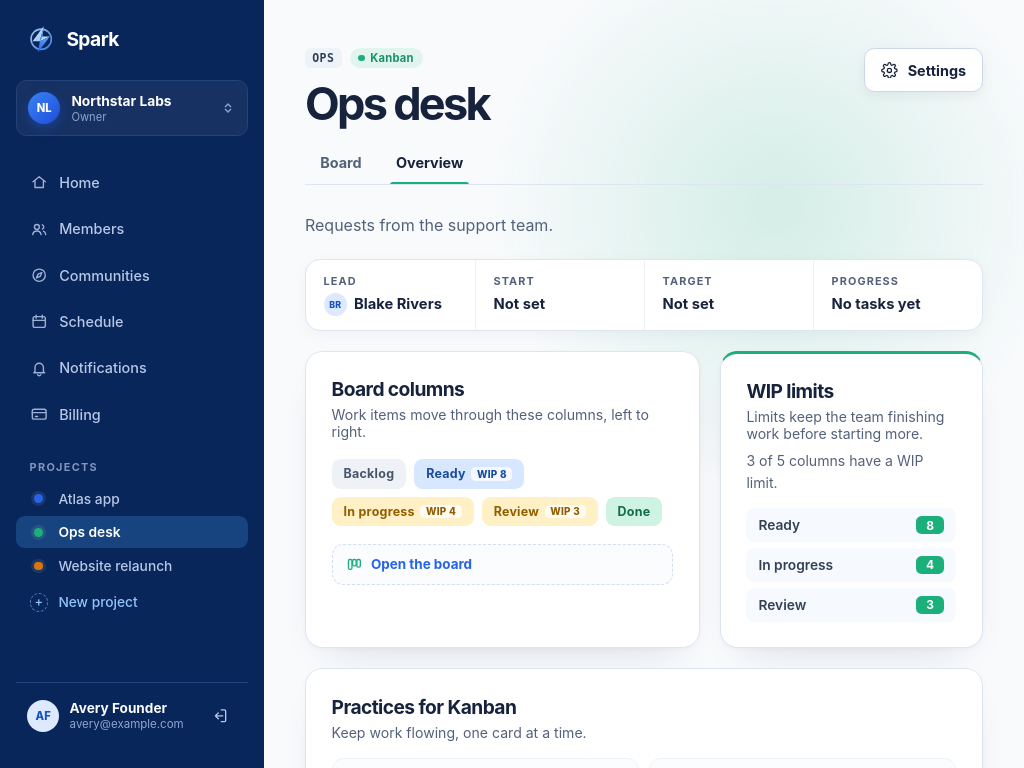
Scenario: project overview › shows a teammate's newer values on 412 and saves again with the fresh version
The width and height of the screenshot is (1024, 768).
Click the button "Settings": (924, 70) x1=864 y1=48 x2=983 y2=92
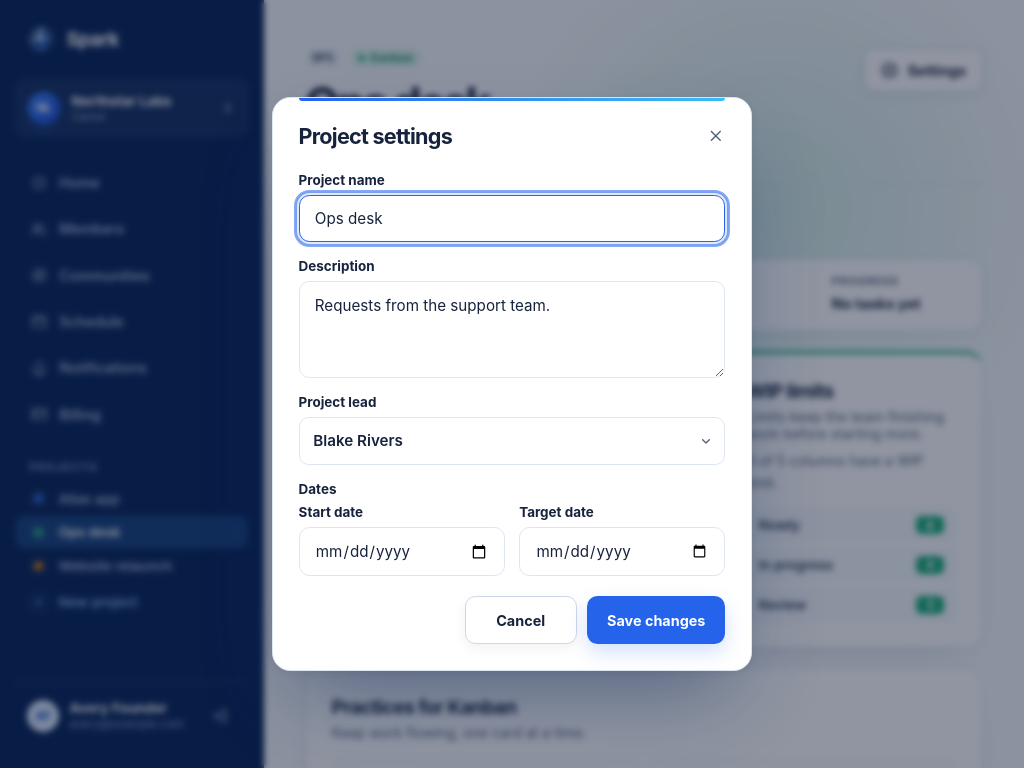
Replace the text in the field labelled "Project name" with "Ops desk 2": (512, 218) x1=299 y1=195 x2=725 y2=242
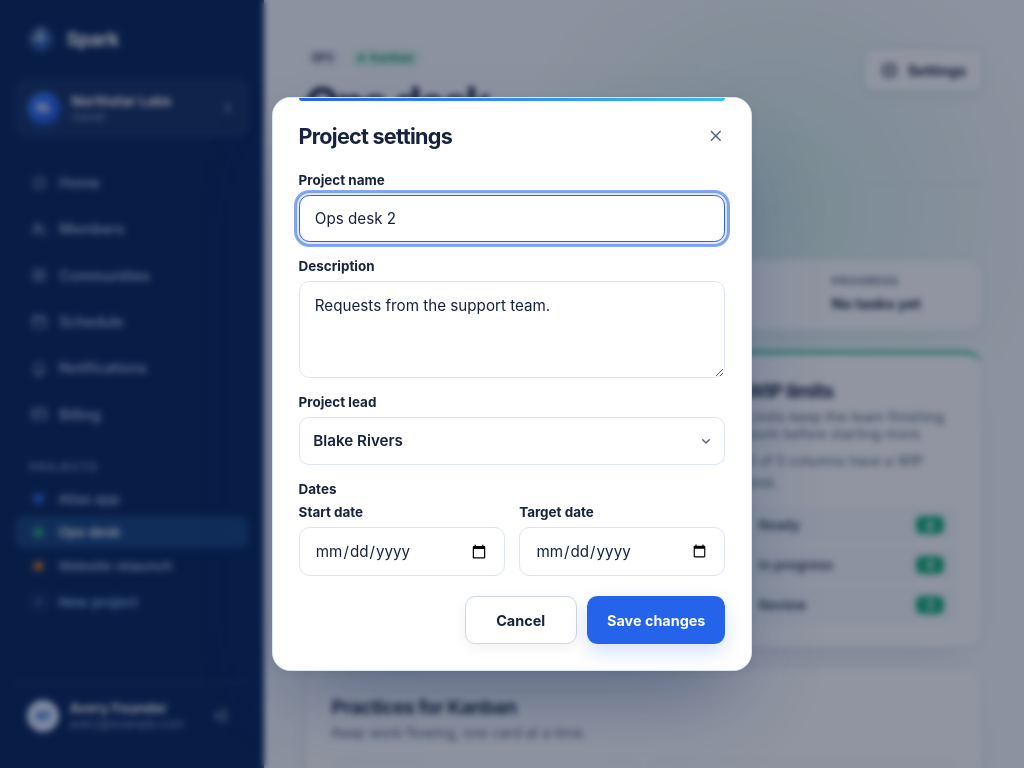
Click the button "Save changes": (656, 620) x1=587 y1=596 x2=725 y2=644
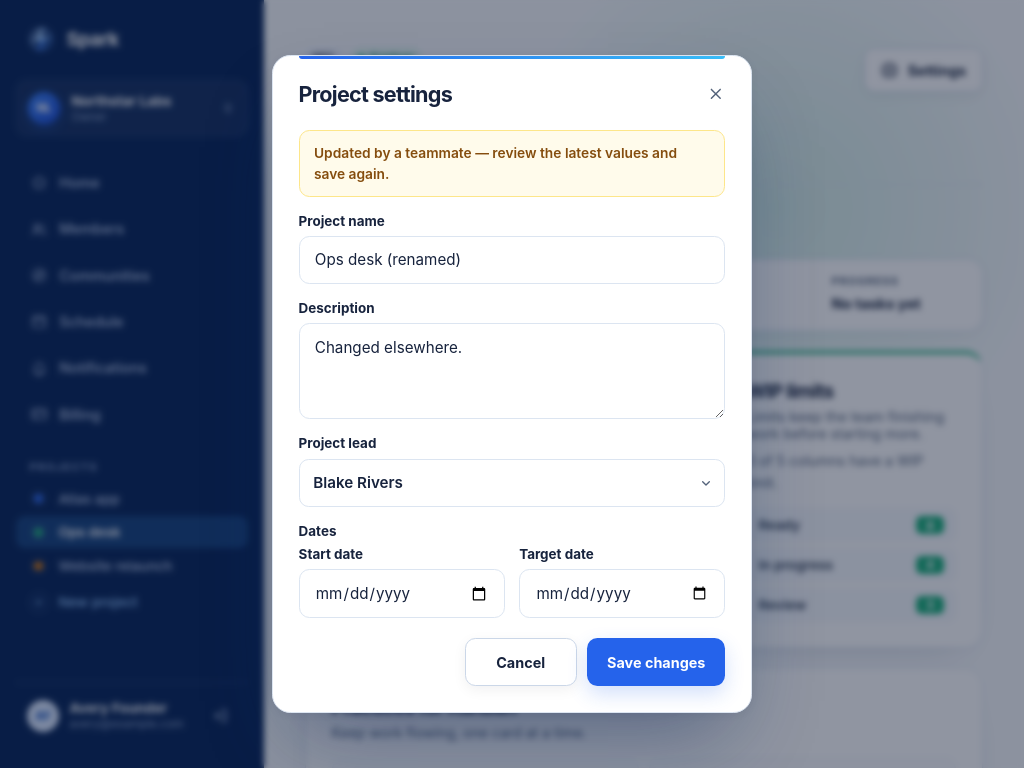
Now the dialog "Project settings" is shown, box x1=272 y1=55 x2=752 y2=713
Now the text "Updated by a teammate — review the latest values and save again." is shown, box x1=299 y1=130 x2=725 y2=197
Now the field labelled "Project name" holds "Ops desk (renamed)"
Replace the text in the field labelled "Project name" with "Ops desk 2": (512, 260) x1=299 y1=236 x2=725 y2=284
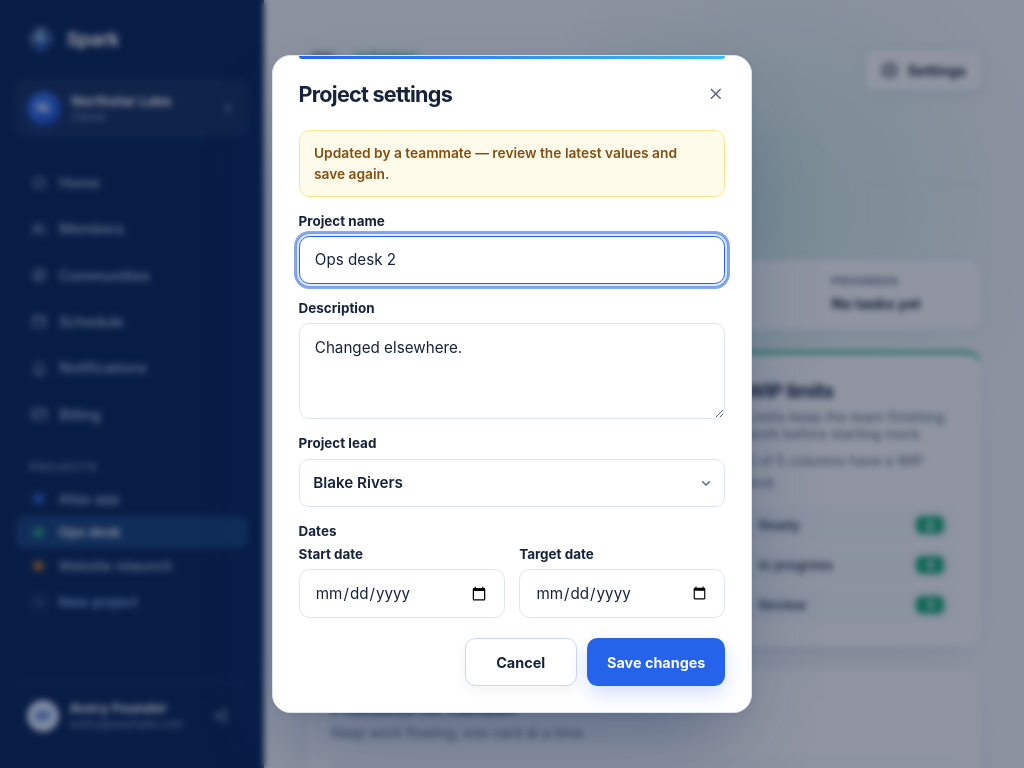
Click the button "Save changes": (656, 662) x1=587 y1=638 x2=725 y2=686
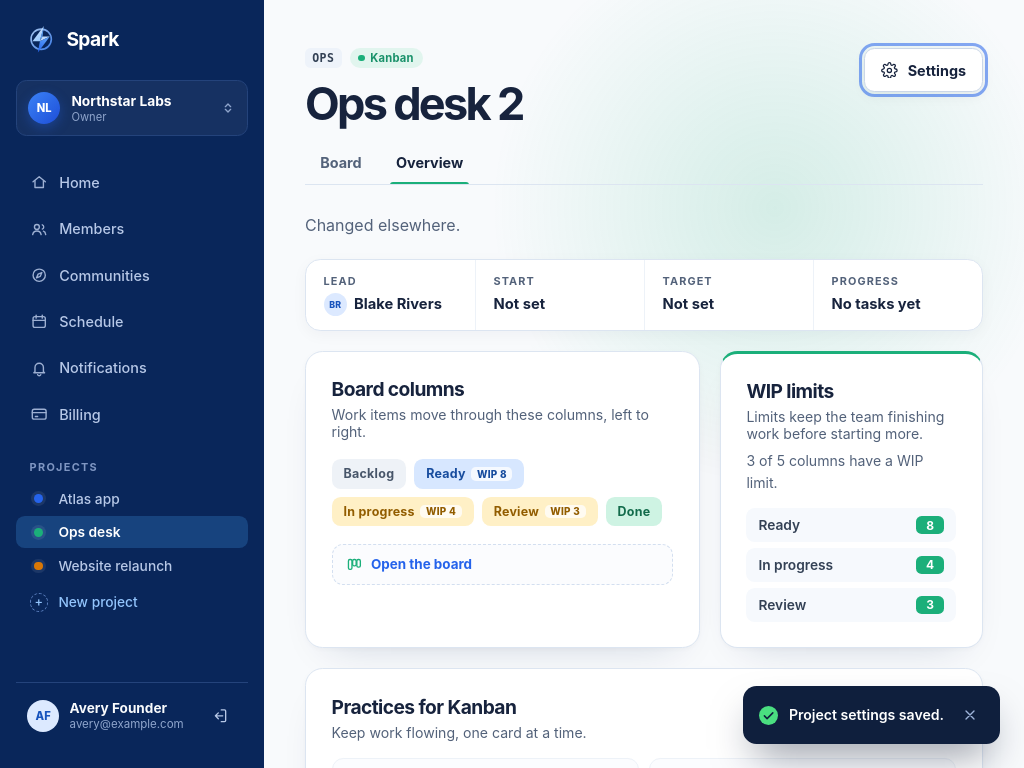
Now the dialog is gone
